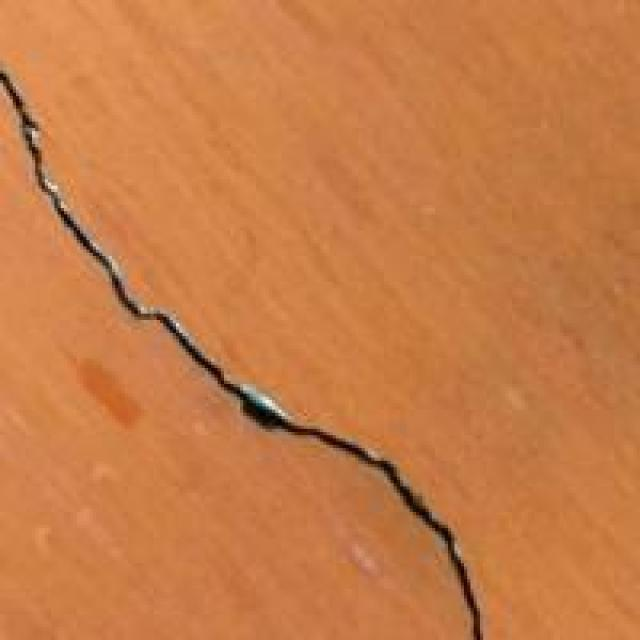Crack: (0, 70, 506, 636)
